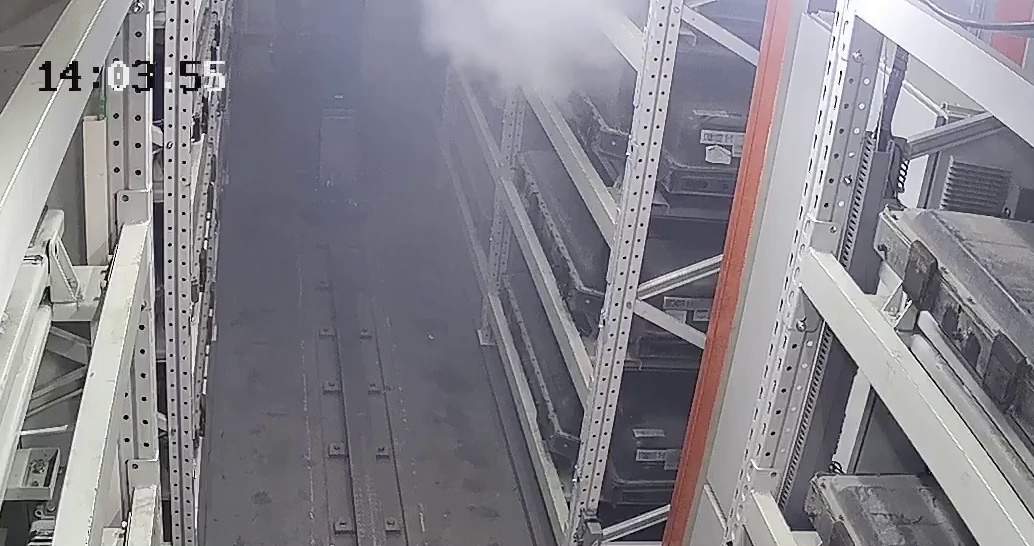smoke: (412, 6, 623, 101)
